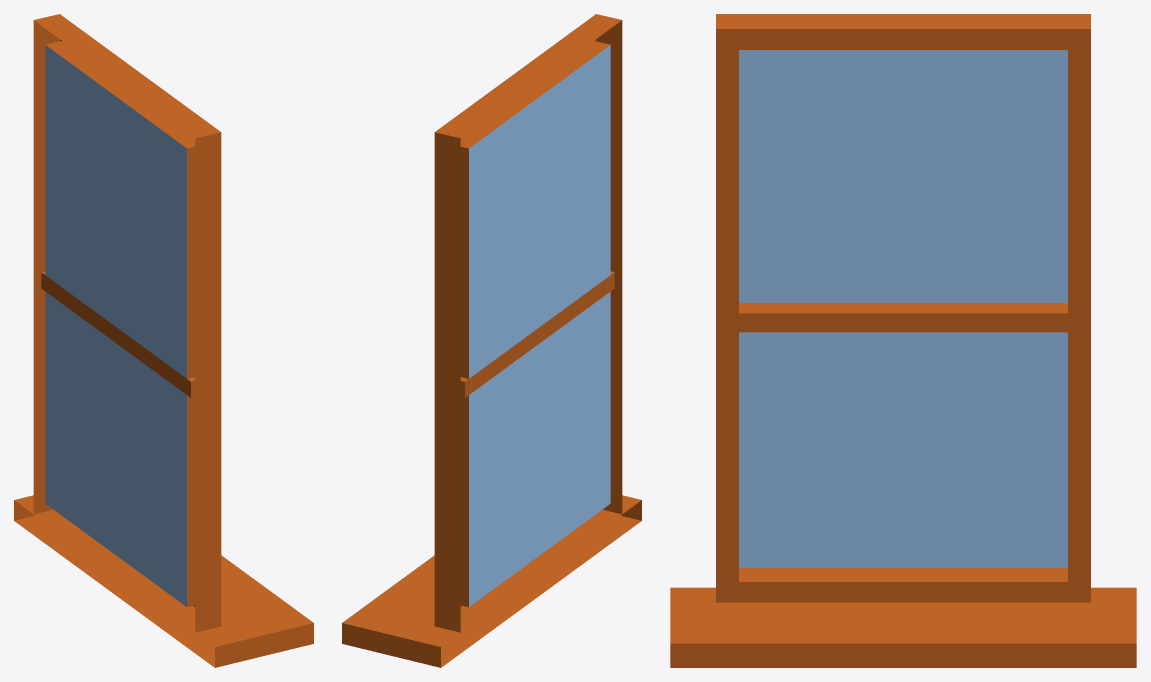
Rendered from P_Window_05.dae.
The picture shows the model from 3 angles, left to right: view 1: azimuth 30°, elevation 25°; view 2: azimuth 150°, elevation 25°; view 3: azimuth 270°, elevation 25°; orthographic projection. The views are drawn at different scales.
Visible parts, largest first — view 1: Window_05; view 2: Window_05; view 3: Window_05.
Part boxes in pixels (x1,y1,x2,y2): Window_05: (14,14,313,667); Window_05: (342,14,641,667); Window_05: (670,14,1136,667).
Bounding box in the file's own units: 0.3645 × 1.28 × 1.81.
